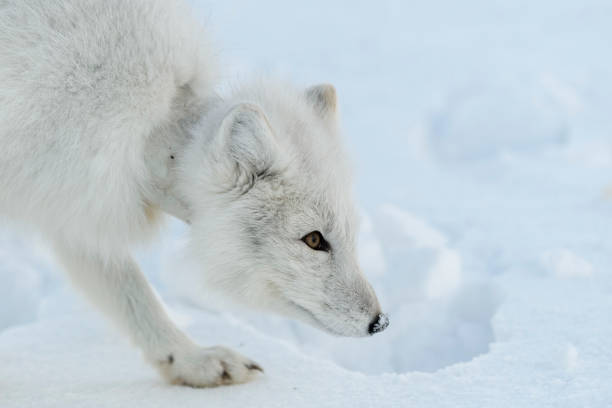arcticfox: (248, 175, 390, 338)
